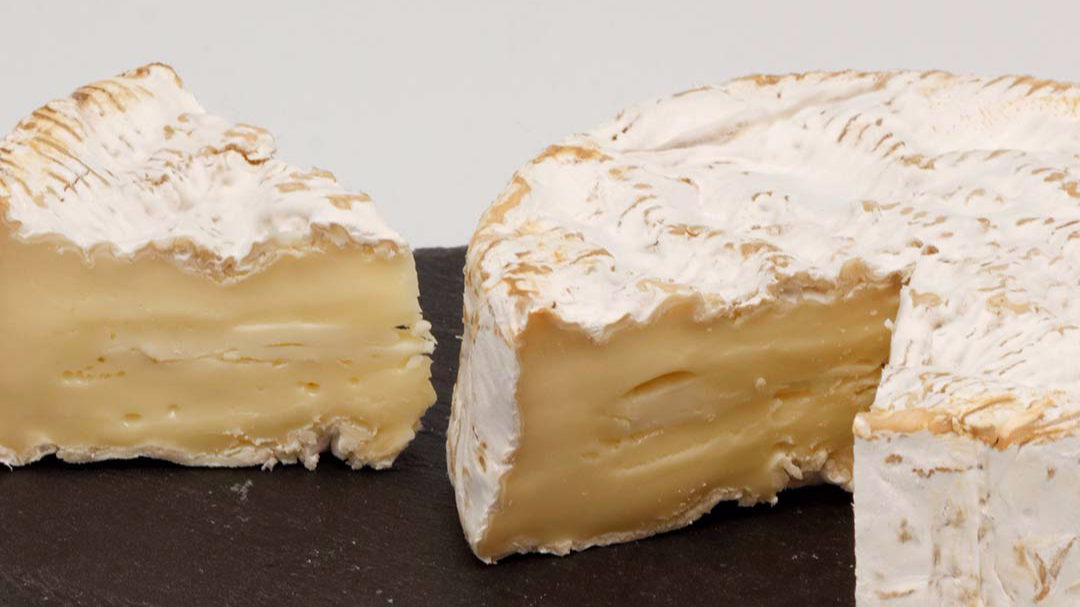camembert: (443, 63, 1080, 606), (1, 61, 438, 476)
